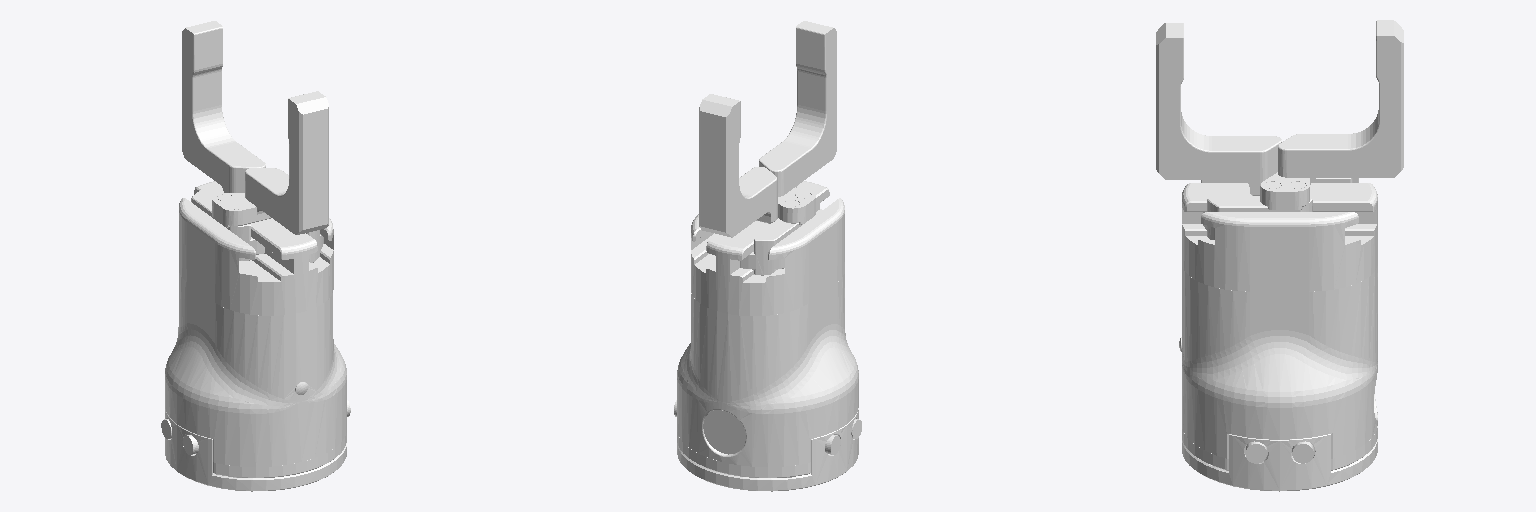
URDF robot description (DH_claw_v1):
<?xml version="1.0" encoding="utf-8"?>
<!-- This URDF was automatically created by SolidWorks to URDF Exporter! Originally created by [author] ([email redacted]) 
     Commit Version: 1.6.0-4-g7f85cfe  Build Version: 1.6.7995.38578
     For more information, please see http://wiki.ros.org/sw_urdf_exporter -->
<robot
  name="DH_claw_v1">
  <link
    name="DH_base_link">
    <inertial>
      <origin
        xyz="-0.00214226690743326 -2.89869288661315E-05 0.0397576644246484"
        rpy="0 0 0" />
      <mass
        value="0.228191114194274" />
      <inertia
        ixx="9.9852872427343E-05"
        ixy="-1.34581010252825E-09"
        ixz="3.45577439945333E-11"
        iyy="8.6467475262219E-05"
        iyz="-1.40654950640297E-07"
        izz="0.000100429586347905" />
    </inertial>
    <visual>
      <origin
        xyz="0 0 0"
        rpy="0 0 0" />
      <geometry>
        <mesh
          filename="package://DH_claw_v1/meshes/DH_base_link.STL" />
      </geometry>
      <material
        name="">
        <color
          rgba="1 1 1 1" />
      </material>
    </visual>
    <collision>
      <origin
        xyz="0 0 0"
        rpy="0 0 0" />
      <geometry>
        <mesh
          filename="package://DH_claw_v1/meshes/DH_base_link.STL" />
      </geometry>
    </collision>
  </link>
  <link
    name="DH_finger1_link">
    <inertial>
      <origin
        xyz="-0.0209955380836605 -0.00304958301979076 0.01313587597688"
        rpy="0 0 0" />
      <mass
        value="0.0150706853916216" />
      <inertia
        ixx="2.70094806996997E-06"
        ixy="-2.0570643241293E-07"
        ixz="-1.36149596199308E-06"
        iyy="4.56944361238611E-06"
        iyz="-1.51760830728483E-07"
        izz="2.39616088159809E-06" />
    </inertial>
    <visual>
      <origin
        xyz="0 0 0"
        rpy="0 0 0" />
      <geometry>
        <mesh
          filename="package://DH_claw_v1/meshes/DH_finger1_link.STL" />
      </geometry>
      <material
        name="">
        <color
          rgba="1 1 1 1" />
      </material>
    </visual>
    <collision>
      <origin
        xyz="0.0005 0 0.0375"
        rpy="0 0 0" />
      <geometry>
        <!-- <mesh
          filename="package://DH_claw_v1/meshes/DH_finger1_link.STL" /> -->
        <box size="0.01 0.025 0.04"/>
      </geometry>
    </collision>
  </link>
  <joint
    name="DH_finger1_prismatic"
    type="prismatic">
    <origin
      xyz="-0.0021423 0.035336 0.0915"
      rpy="0 0 1.5708" />
    <parent
      link="DH_base_link" />
    <child
      link="DH_finger1_link" />
    <axis
      xyz="1 0 0" />
    <limit
      lower="0"
      upper="0.031"
      effort="0"
      velocity="0" />
  </joint>
  <link
    name="DH_finger2_link">
    <inertial>
      <origin
        xyz="-0.0209955380836608 -0.00325958301979083 0.0132558759768799"
        rpy="0 0 0" />
      <mass
        value="0.0150706853916218" />
      <inertia
        ixx="2.70094806997E-06"
        ixy="-2.05706432412959E-07"
        ixz="-1.36149596199312E-06"
        iyy="4.5694436123862E-06"
        iyz="-1.51760830728494E-07"
        izz="2.39616088159818E-06" />
    </inertial>
    <visual>
      <origin
        xyz="0 0 0"
        rpy="0 0 0" />
      <geometry>
        <mesh
          filename="package://DH_claw_v1/meshes/DH_finger2_link.STL" />
      </geometry>
      <material
        name="">
        <color
          rgba="1 1 1 1" />
      </material>
    </visual>
    <collision>
      <origin
        xyz="0.0005 0 0.0375"
        rpy="0 0 0" />
      <geometry>
        <!-- <mesh
          filename="package://DH_claw_v1/meshes/DH_finger2_link.STL" /> -->
        <box size="0.01 0.025 0.04"/>
      </geometry>
    </collision>
  </link>
  <joint
    name="DH_finger2_prismatic"
    type="prismatic">
    <origin
      xyz="-0.0021423 -0.035193 0.0915"
      rpy="0 0 -1.5708" />
    <parent
      link="DH_base_link" />
    <child
      link="DH_finger2_link" />
    <axis
      xyz="1 0 0" />
    <limit
      lower="0"
      upper="0.031"
      effort="0"
      velocity="0" />
  </joint>
</robot>

--- What the picture shows (computed from the rendered views, not written in the file) ---
3 views of the same robot in one strip: view 1: azimuth 30°, elevation 25°; view 2: azimuth 150°, elevation 25°; view 3: azimuth 270°, elevation 25° (orthographic).
Model DH_claw_v1 with 3 links and 2 joints (2 prismatic), rooted at DH_base_link, posed every joint at zero.
Visible links, largest first — view 1: DH_base_link, DH_finger2_link, DH_finger1_link; view 2: DH_base_link, DH_finger2_link, DH_finger1_link; view 3: DH_base_link, DH_finger1_link, DH_finger2_link.
Boxes of the visible links, <box> form: DH_base_link: <box>161,181,350,491</box>; DH_finger2_link: <box>191,91,328,260</box>; DH_finger1_link: <box>182,21,323,262</box>; DH_base_link: <box>674,181,861,491</box>; DH_finger2_link: <box>740,21,836,275</box>; DH_finger1_link: <box>699,94,777,237</box>; DH_base_link: <box>1179,178,1377,491</box>; DH_finger1_link: <box>1203,20,1403,239</box>; DH_finger2_link: <box>1156,23,1352,195</box>.
Size in the robot's own frame: 0.063 by 0.0794 by 0.152 metres.
Meshes: 3 distinct files referenced, 3 mesh visuals loaded (3 binary STL).
